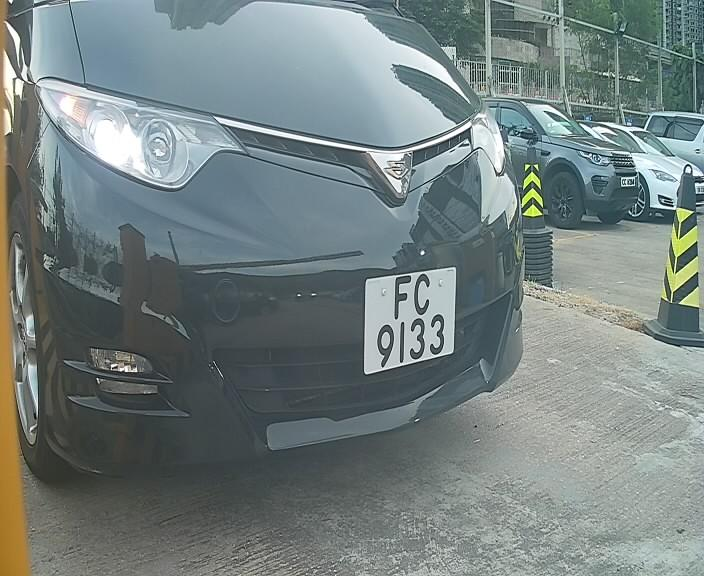License Plate: (356, 253, 463, 386)
